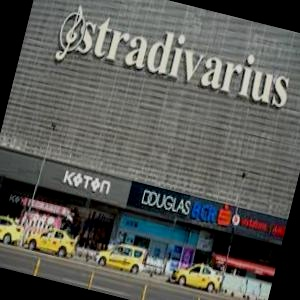stradivarius: (257, 0, 300, 3)
